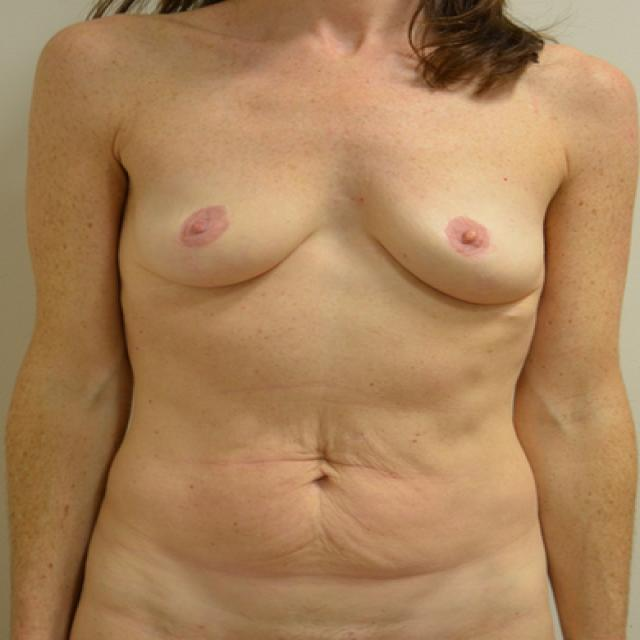Seno ileso: (349, 134, 561, 325), (111, 134, 335, 305)
